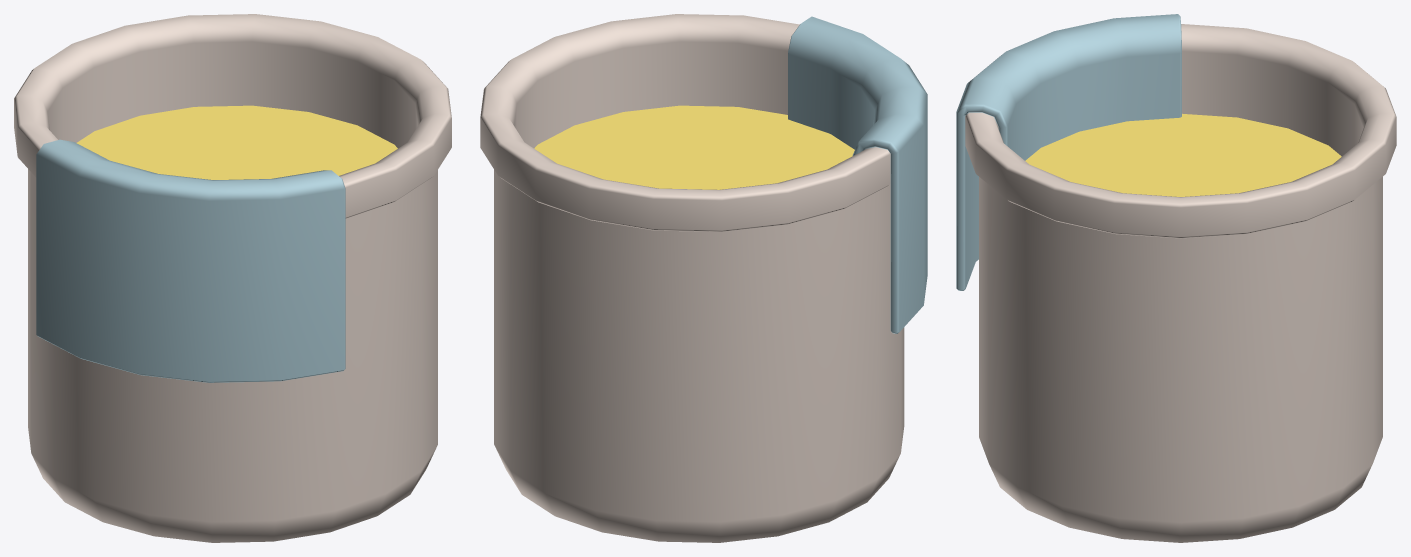
Rendered from Laundry_basket_4.glb.
The picture shows the model from 3 angles, left to right: view 1: azimuth 30°, elevation 25°; view 2: azimuth 150°, elevation 25°; view 3: azimuth 270°, elevation 25°; orthographic projection. The views are drawn at different scales.
Visible parts, largest first — view 1: Laundry_basket_4; view 2: Laundry_basket_4; view 3: Laundry_basket_4.
Boxes of the visible parts, left/top/right/bottom form: Laundry_basket_4: left=14, top=14, right=451, bottom=542; Laundry_basket_4: left=480, top=14, right=927, bottom=542; Laundry_basket_4: left=956, top=14, right=1396, bottom=542.
Size of the model in its own units: 0.7548 by 0.6967 by 0.7548.
Materials: 1 (1 with a texture image).
